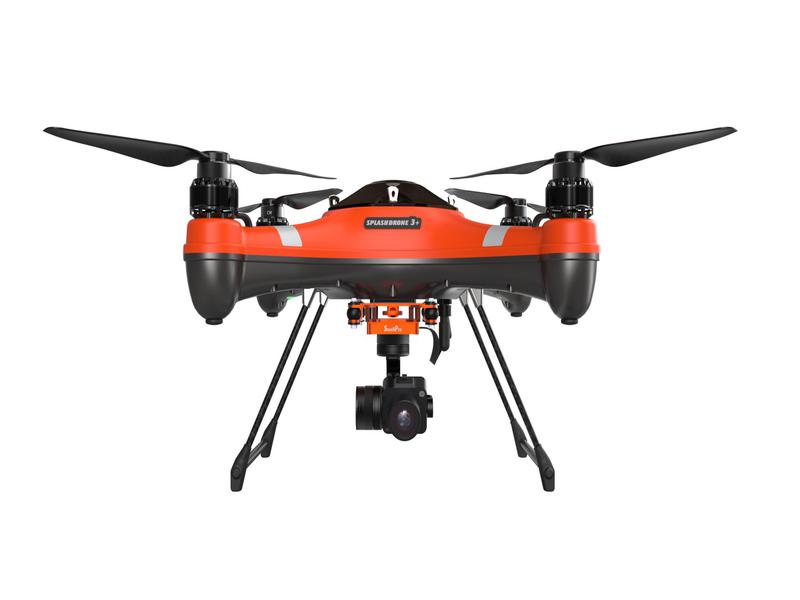enemy: (183, 148, 596, 492)
